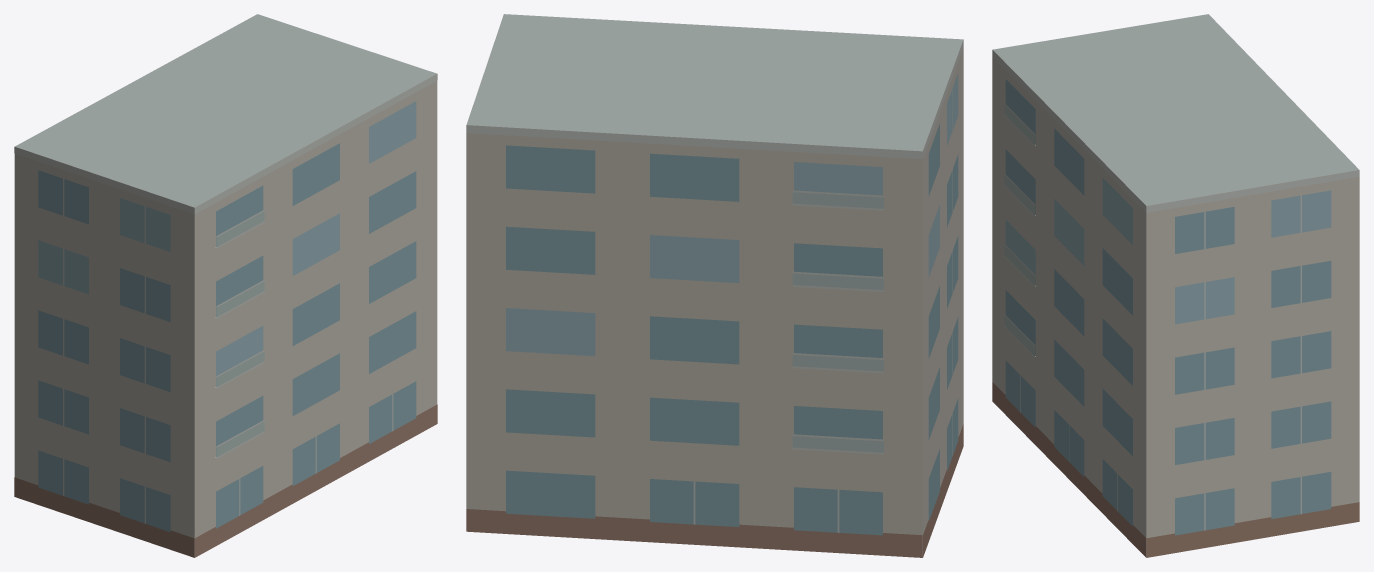
Rendered from survey-upis-32864531.glb.
The picture shows the model from 3 angles, left to right: view 1: azimuth 30°, elevation 25°; view 2: azimuth 150°, elevation 25°; view 3: azimuth 270°, elevation 25°; orthographic projection. The views are drawn at different scales.
Visible parts, largest first — view 1: survey-upis-32864531.tmp; view 2: survey-upis-32864531.tmp; view 3: survey-upis-32864531.tmp.
Part boxes in pixels (x1,y1,x2,y2): survey-upis-32864531.tmp: [14, 14, 437, 557]; survey-upis-32864531.tmp: [466, 14, 963, 557]; survey-upis-32864531.tmp: [992, 14, 1359, 557].
Size of the model in its own units: 14.67 by 12.52 by 11.85.
